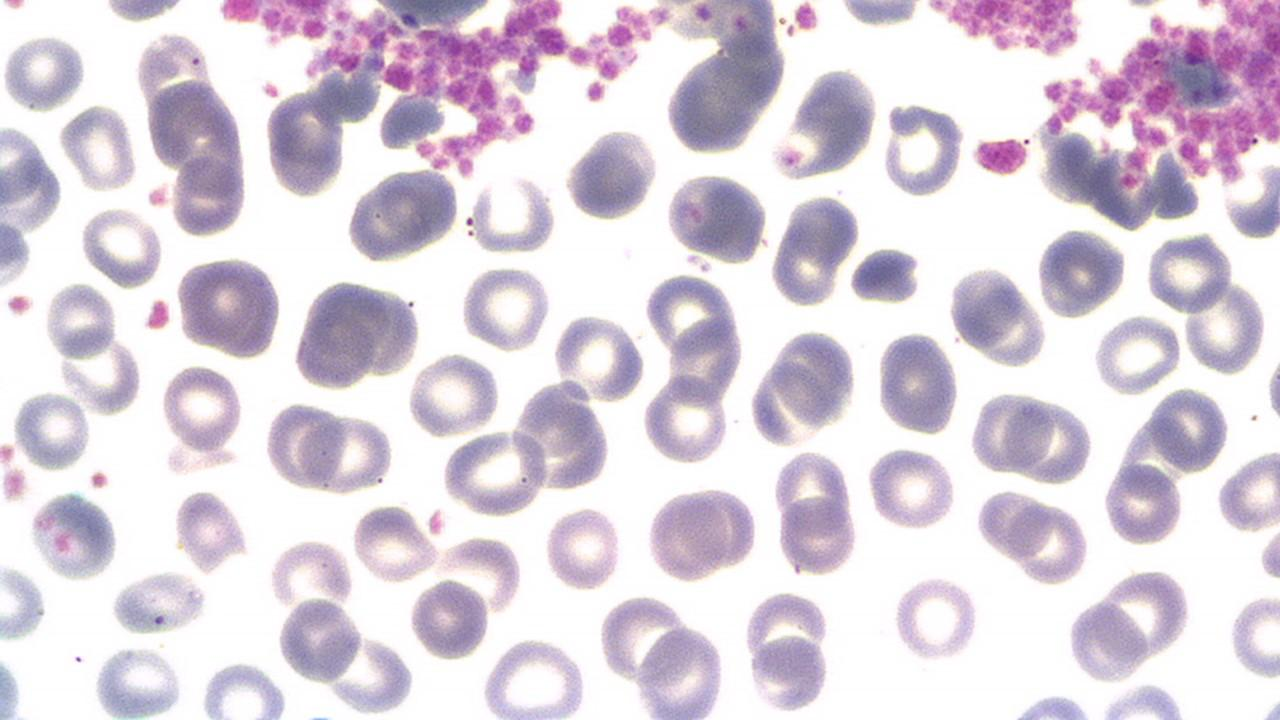Platelets: (108, 569, 209, 639), (174, 488, 247, 570), (1228, 591, 1280, 680), (846, 246, 922, 306), (967, 137, 1031, 178), (0, 653, 24, 720), (1256, 528, 1280, 586), (1261, 694, 1280, 718)
RBC: (179, 256, 279, 359), (662, 170, 768, 263), (442, 428, 550, 518), (1096, 564, 1192, 664), (875, 328, 960, 437), (479, 636, 591, 718), (564, 127, 660, 222), (633, 622, 727, 718), (770, 325, 856, 426), (264, 91, 344, 198), (460, 262, 553, 354), (891, 572, 982, 666), (552, 311, 644, 403), (881, 100, 965, 199), (1183, 277, 1267, 375), (28, 489, 119, 579), (468, 167, 560, 256), (641, 374, 730, 466), (300, 410, 394, 496), (406, 351, 500, 437), (55, 323, 143, 414), (1035, 227, 1127, 314), (865, 445, 956, 532), (435, 532, 527, 618), (767, 210, 845, 309), (1006, 395, 1092, 484), (159, 362, 244, 452), (772, 446, 851, 542), (276, 596, 362, 684), (747, 356, 831, 446), (325, 630, 415, 714), (646, 488, 728, 580), (1144, 229, 1232, 314), (666, 316, 746, 408), (1066, 595, 1148, 684), (61, 101, 139, 194), (1092, 314, 1182, 394), (108, 568, 210, 638), (1008, 498, 1091, 584), (544, 503, 624, 592), (1150, 384, 1230, 472), (972, 390, 1053, 476), (746, 632, 832, 713), (410, 575, 490, 661), (1102, 462, 1184, 545), (79, 206, 164, 286), (1, 33, 88, 111), (351, 503, 435, 583), (268, 403, 344, 491), (90, 646, 185, 716), (778, 492, 856, 576), (12, 389, 90, 471), (946, 264, 1022, 348), (169, 153, 245, 237), (268, 538, 354, 609), (173, 488, 246, 570), (691, 483, 759, 569), (45, 280, 116, 359), (1215, 448, 1279, 532), (199, 660, 286, 718), (1226, 590, 1280, 681), (0, 561, 45, 640), (98, 0, 187, 24), (1256, 525, 1280, 583)
WBC: (126, 0, 819, 228), (1018, 0, 1279, 236), (0, 117, 66, 300), (920, 0, 1096, 60), (664, 170, 767, 266), (564, 124, 656, 224), (29, 488, 119, 582), (109, 570, 210, 638), (0, 653, 26, 716)
